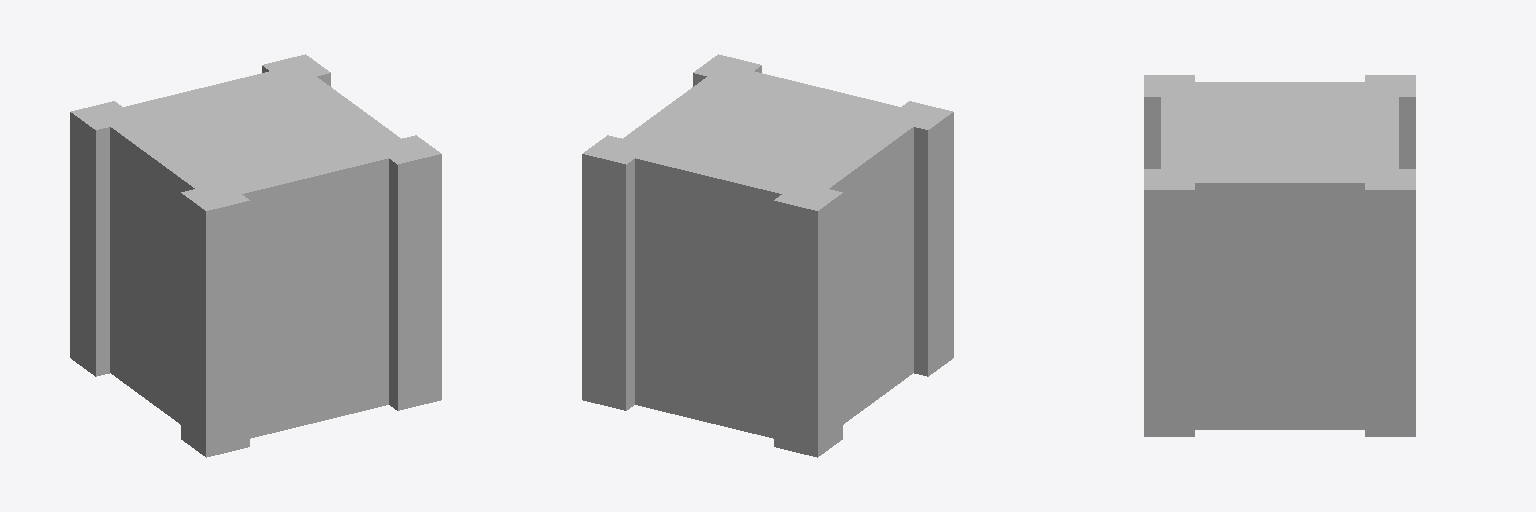
The model's file is column.obj.
3 views of the same model, side by side, from view 1: azimuth 30°, elevation 25°; view 2: azimuth 150°, elevation 25°; view 3: azimuth 270°, elevation 25° (orthographic).
Visible parts, largest first — view 1: Column; view 2: Column; view 3: Column.
Boxes of the visible parts, <box> form: Column: <box>70,54,441,457</box>; Column: <box>582,54,953,457</box>; Column: <box>1144,75,1415,436</box>.
Bounding box in the file's own units: 1 × 1 × 1.